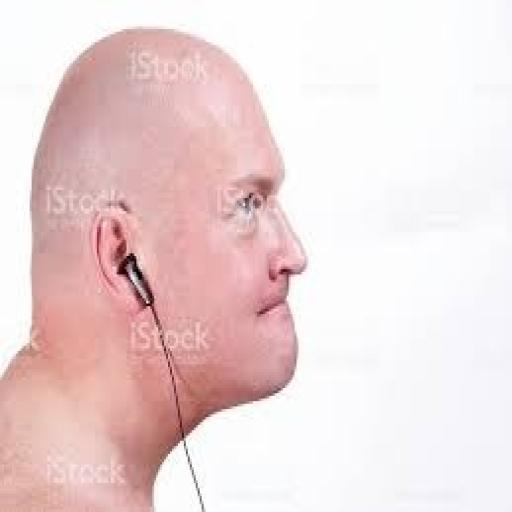listening_to_music: (0, 21, 310, 509)
